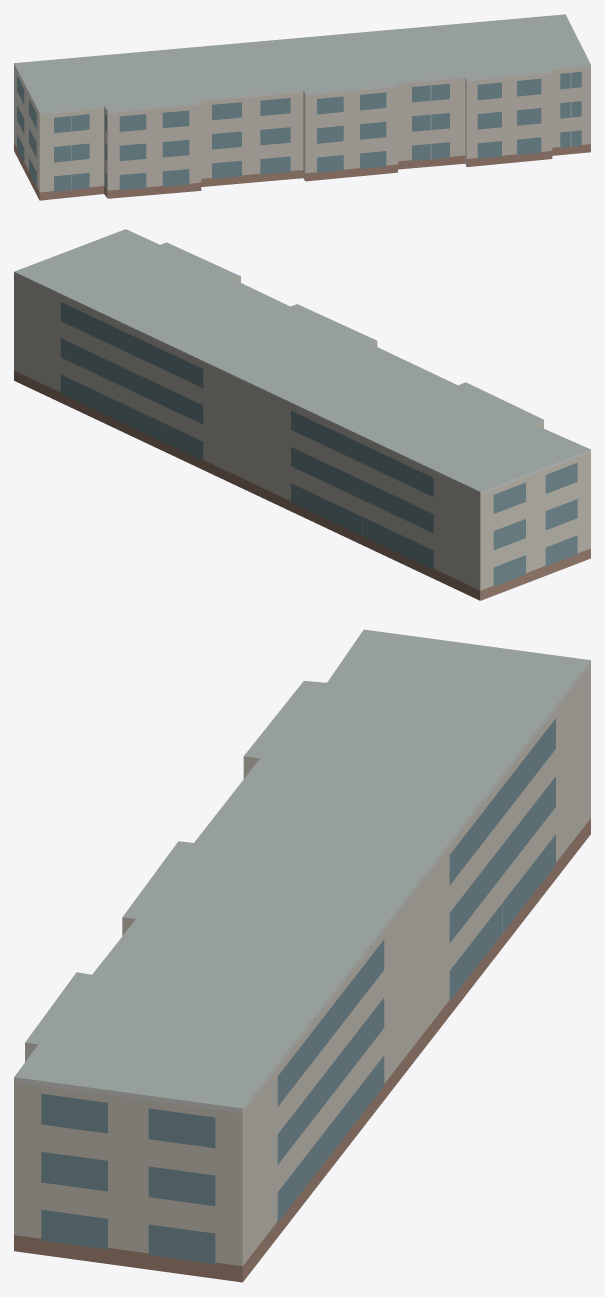
Rendered from survey-upis-32998484.glb.
3 renders of one model, top to bottom at view 1: azimuth 30°, elevation 25°; view 2: azimuth 150°, elevation 25°; view 3: azimuth 270°, elevation 25°, orthographic. The views are drawn at different scales.
Visible parts, largest first — view 1: survey-upis-32998484.tmp; view 2: survey-upis-32998484.tmp; view 3: survey-upis-32998484.tmp.
Part boxes in pixels (x1,y1,x2,y2): survey-upis-32998484.tmp: [14, 14, 590, 200]; survey-upis-32998484.tmp: [14, 229, 590, 600]; survey-upis-32998484.tmp: [14, 629, 590, 1282].
Bounding box in the file's own units: 54.03 × 9.15 × 27.5.
